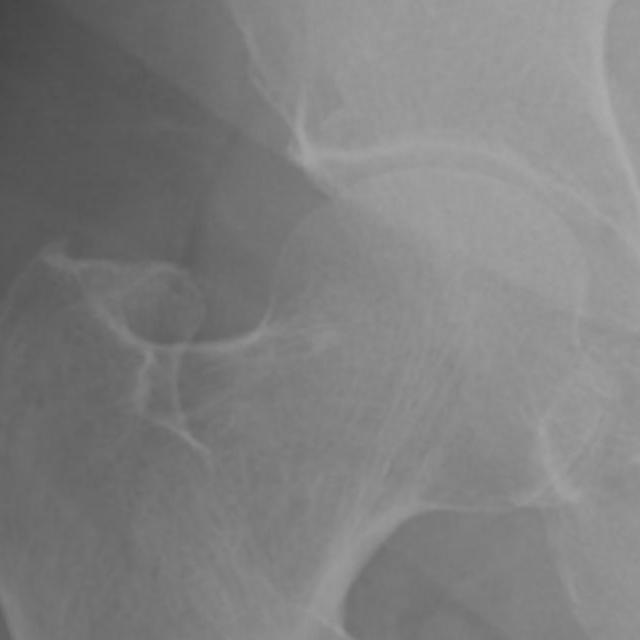Fitted_femural_head: (361, 170, 432, 361)
